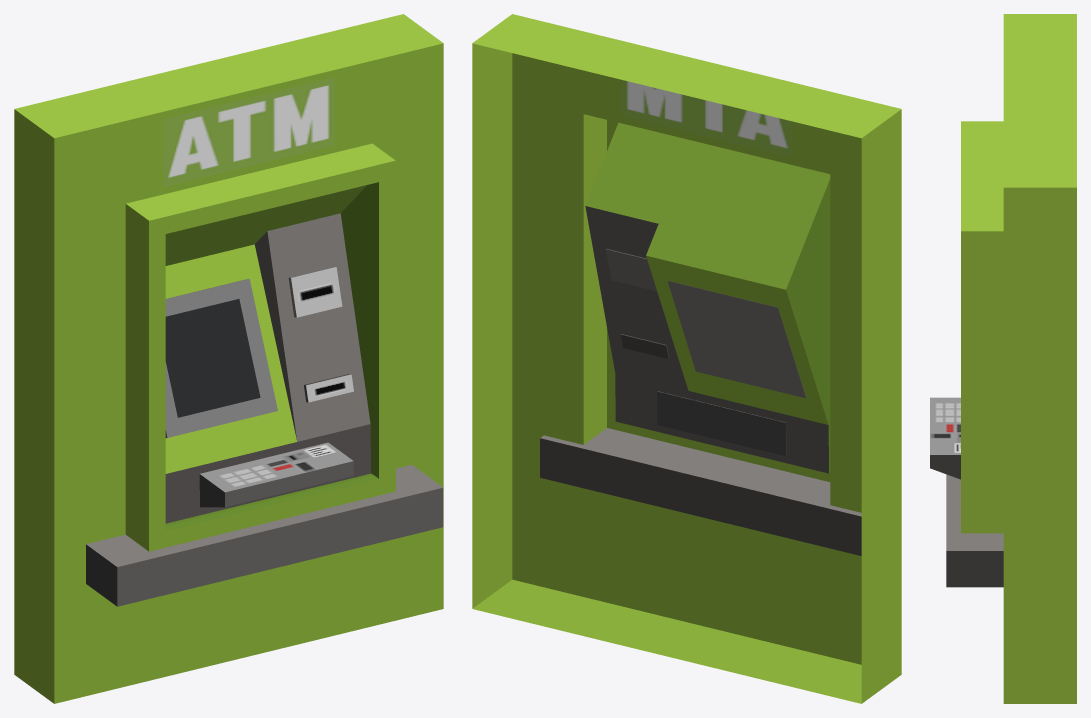
Rendered from SM_Atm_Green_01.fbx.
3 renders of one model, left to right at view 1: azimuth 30°, elevation 25°; view 2: azimuth 150°, elevation 25°; view 3: azimuth 270°, elevation 25°, orthographic. The views are drawn at different scales.
Parts seen in each view (by area): view 1: SM_Atm_Green_01; view 2: SM_Atm_Green_01; view 3: SM_Atm_Green_01.
Boxes of the visible parts, left/top/right/bottom form: SM_Atm_Green_01: left=14, top=14, right=443, bottom=703; SM_Atm_Green_01: left=472, top=14, right=901, bottom=703; SM_Atm_Green_01: left=930, top=14, right=1076, bottom=703.
Bounding box in the file's own units: 1.91 × 2.65 × 0.6824.
